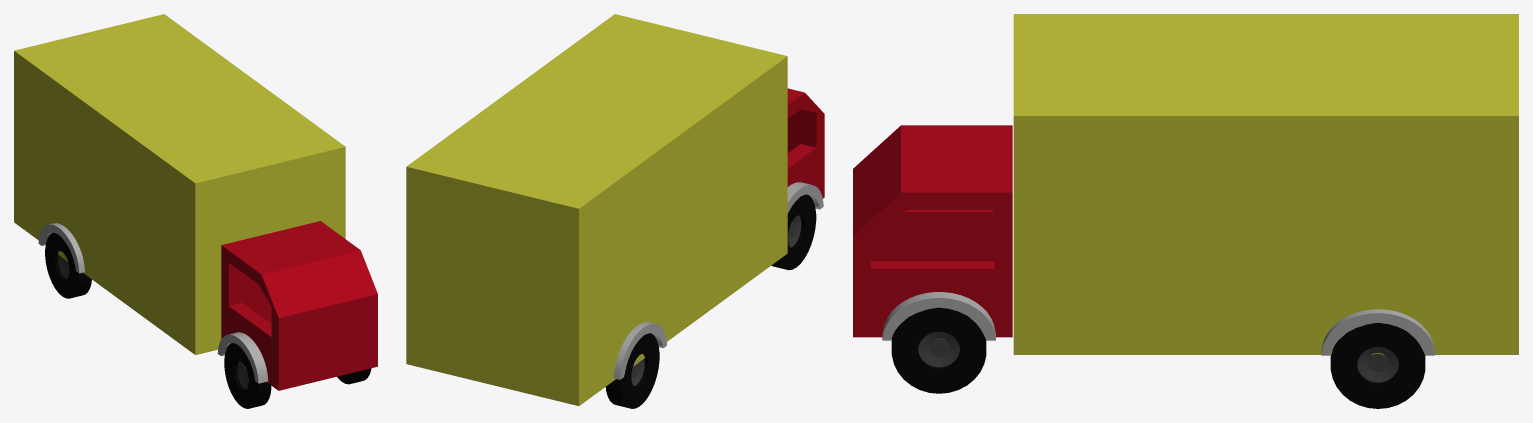
File: Toy truck.fbx
3 views of the same model, side by side, from view 1: azimuth 30°, elevation 25°; view 2: azimuth 150°, elevation 25°; view 3: azimuth 270°, elevation 25° (orthographic). The views are drawn at different scales.
Parts seen in each view (by area): view 1: pCube1, pCube2, pasted__Tire, pasted__pasted__Tire, pasted__Wheelhouse, pasted__pasted__Wheelhouse; view 2: pCube1, pCube2, pasted__pasted__Tire, pasted__Tire, pasted__pasted__Wheelhouse, pasted__Wheelhouse; view 3: pCube1, pCube2, Tire, pasted__Tire, Wheelhouse, pasted__Wheelhouse.
Part boxes in pixels (x1,y1,x2,y2): pCube1: (14, 14, 345, 354); pCube2: (221, 221, 377, 390); pasted__Tire: (224, 343, 271, 408); pasted__pasted__Tire: (45, 232, 91, 298); pasted__Wheelhouse: (217, 332, 268, 383); pasted__pasted__Wheelhouse: (38, 223, 84, 273); pCube1: (406, 14, 787, 405); pCube2: (787, 88, 824, 198); pasted__pasted__Tire: (605, 333, 659, 408); pasted__Tire: (771, 194, 816, 270); pasted__pasted__Wheelhouse: (613, 322, 666, 379); pasted__Wheelhouse: (787, 182, 823, 213); pCube1: (1013, 14, 1518, 354); pCube2: (853, 125, 1012, 337); Tire: (891, 307, 986, 393); pasted__Tire: (1330, 322, 1425, 408); Wheelhouse: (882, 292, 995, 340); pasted__Wheelhouse: (1321, 309, 1434, 355).
Size of the model in its own units: 4.21 by 5.18 by 10.79.
